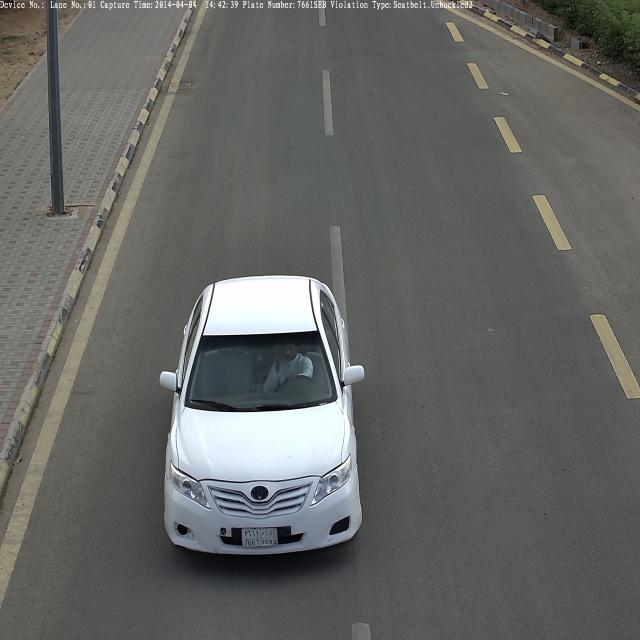person_without_seatbelt: (273, 334, 312, 393)
